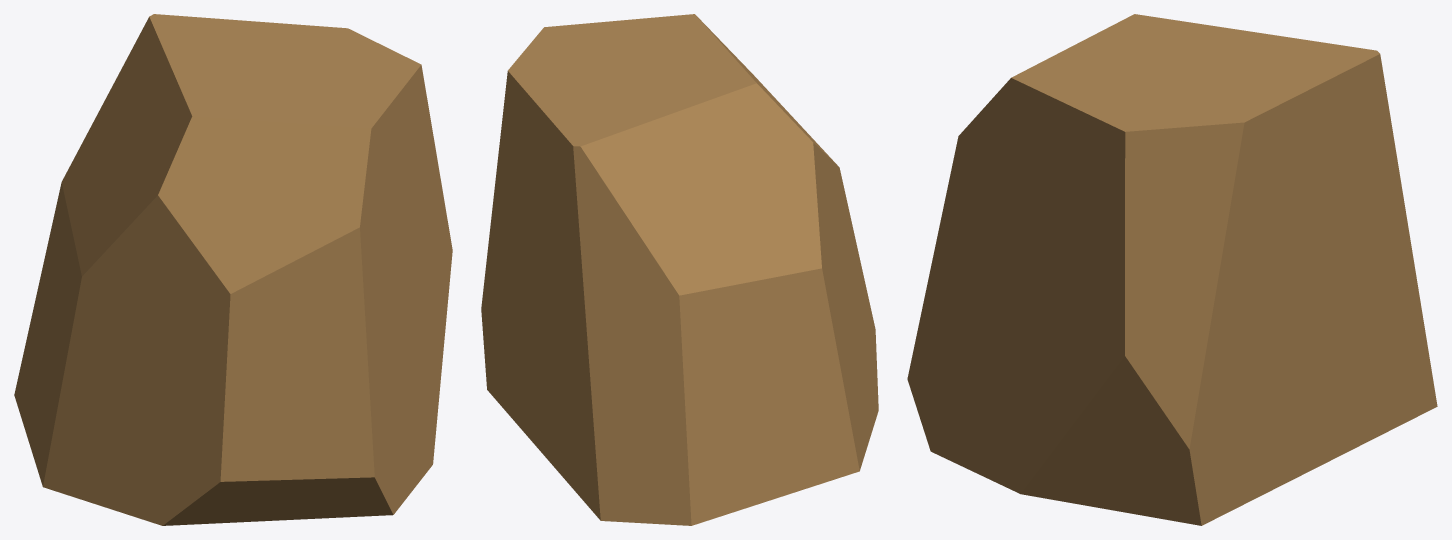
Rendered from roca12.fbx.
3 renders of one model, left to right at view 1: azimuth 30°, elevation 25°; view 2: azimuth 150°, elevation 25°; view 3: azimuth 270°, elevation 25°, orthographic. The views are drawn at different scales.
Visible parts, largest first — view 1: small_rock_06_Cylinder_005; view 2: small_rock_06_Cylinder_005; view 3: small_rock_06_Cylinder_005.
Part boxes in pixels (<box>): small_rock_06_Cylinder_005: <box>14,14,452,525</box>; small_rock_06_Cylinder_005: <box>481,14,878,525</box>; small_rock_06_Cylinder_005: <box>907,14,1437,525</box>.
Size of the model in its own units: 61.68 by 53.98 by 67.94.
